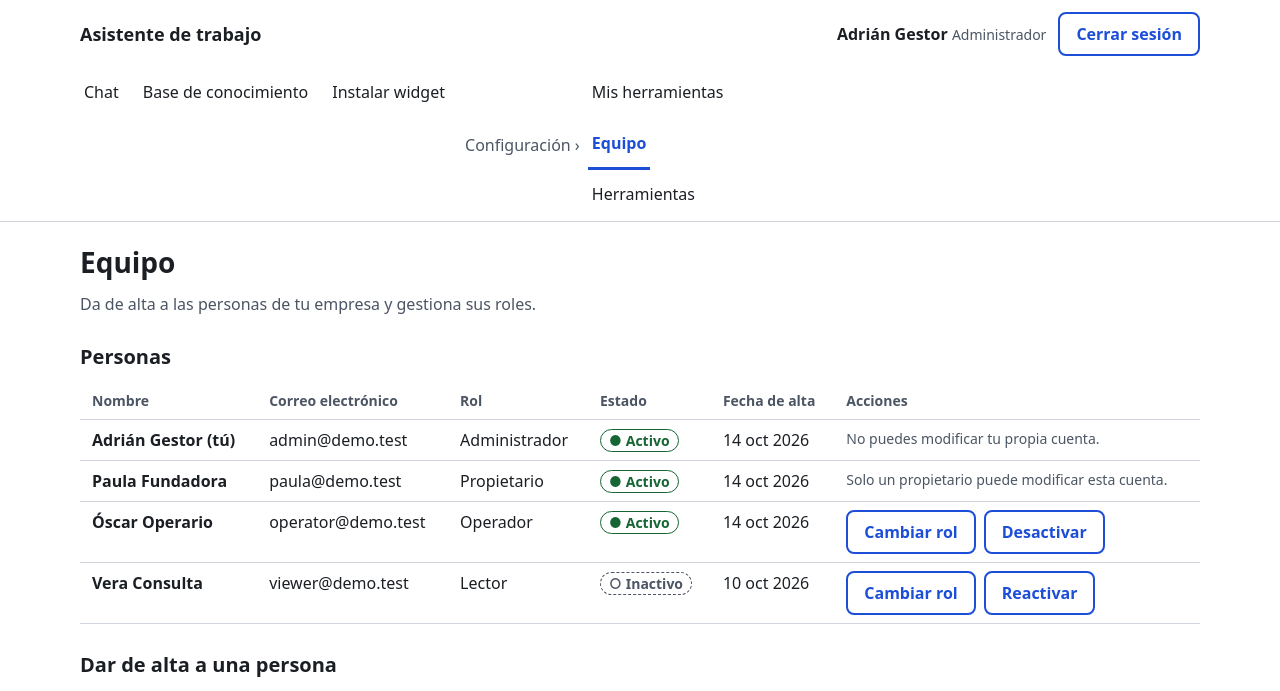
Test: TeamPage: changing a member › reactivates a member
Expected: the table named "Personas de tu empresa" is shown, [80,382,1200,624]
Click the button "Reactivar": (1040, 593) [984,571,1096,615]
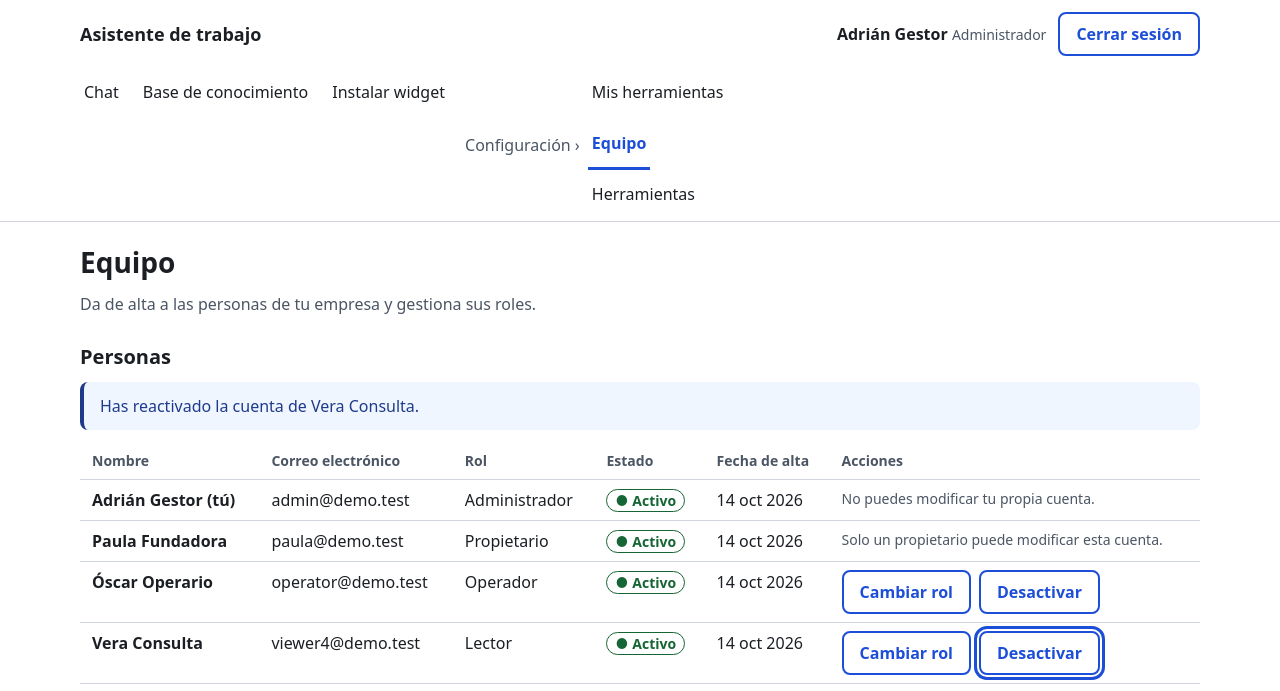
Expected: the text "Has reactivado la cuenta de Vera Consulta." is shown, [80,382,1200,430]
